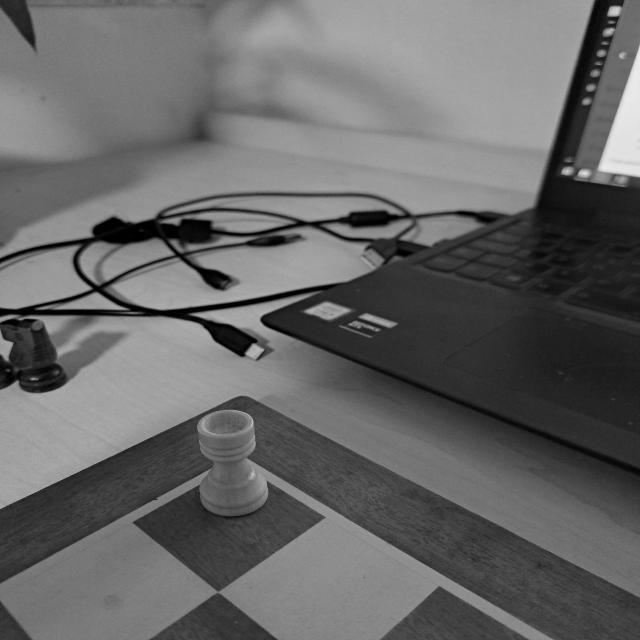chess-table-corners: (172, 432, 308, 501)
